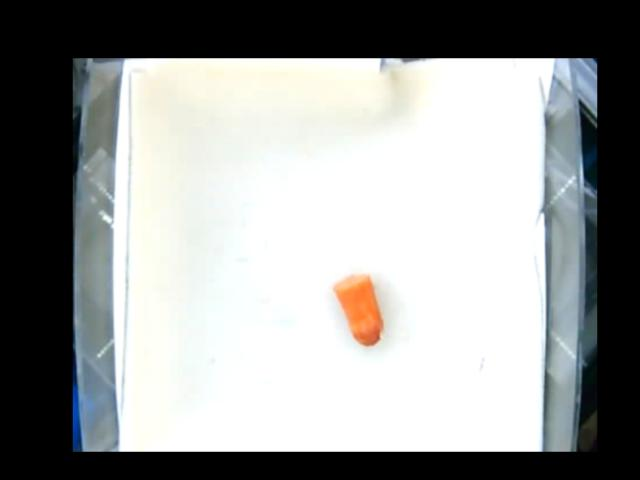Carrot: (333, 273, 382, 346)
